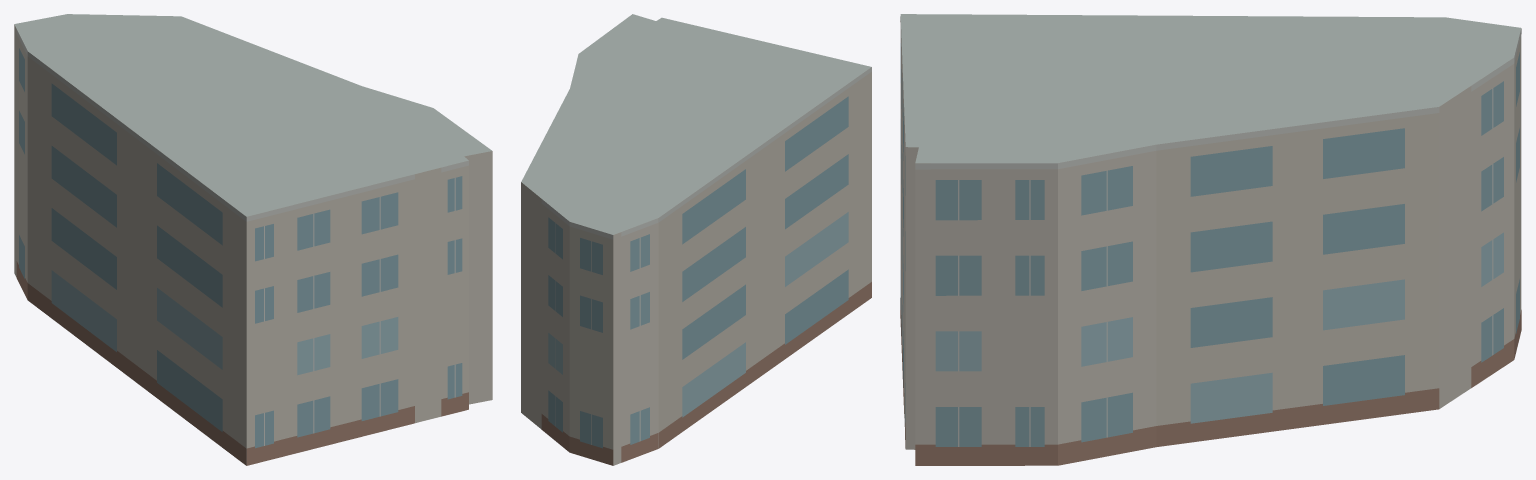
The model's file is survey-upis-32653807.glb.
The picture shows the model from 3 angles, left to right: view 1: azimuth 30°, elevation 25°; view 2: azimuth 150°, elevation 25°; view 3: azimuth 270°, elevation 25°; orthographic projection. The views are drawn at different scales.
Parts seen in each view (by area): view 1: survey-upis-32653807.tmp; view 2: survey-upis-32653807.tmp; view 3: survey-upis-32653807.tmp.
Boxes of the visible parts, bbox=[...] form: survey-upis-32653807.tmp: bbox=[14, 14, 492, 465]; survey-upis-32653807.tmp: bbox=[521, 14, 871, 465]; survey-upis-32653807.tmp: bbox=[900, 14, 1521, 465].
Bounding box in the file's own units: 12.83 × 12.1 × 22.52.
